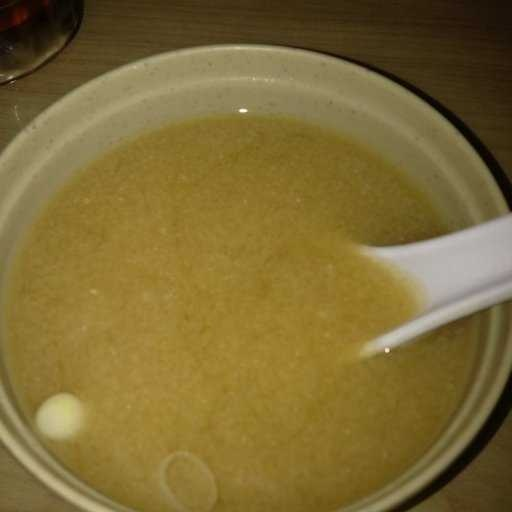soup: (1, 99, 508, 506)
